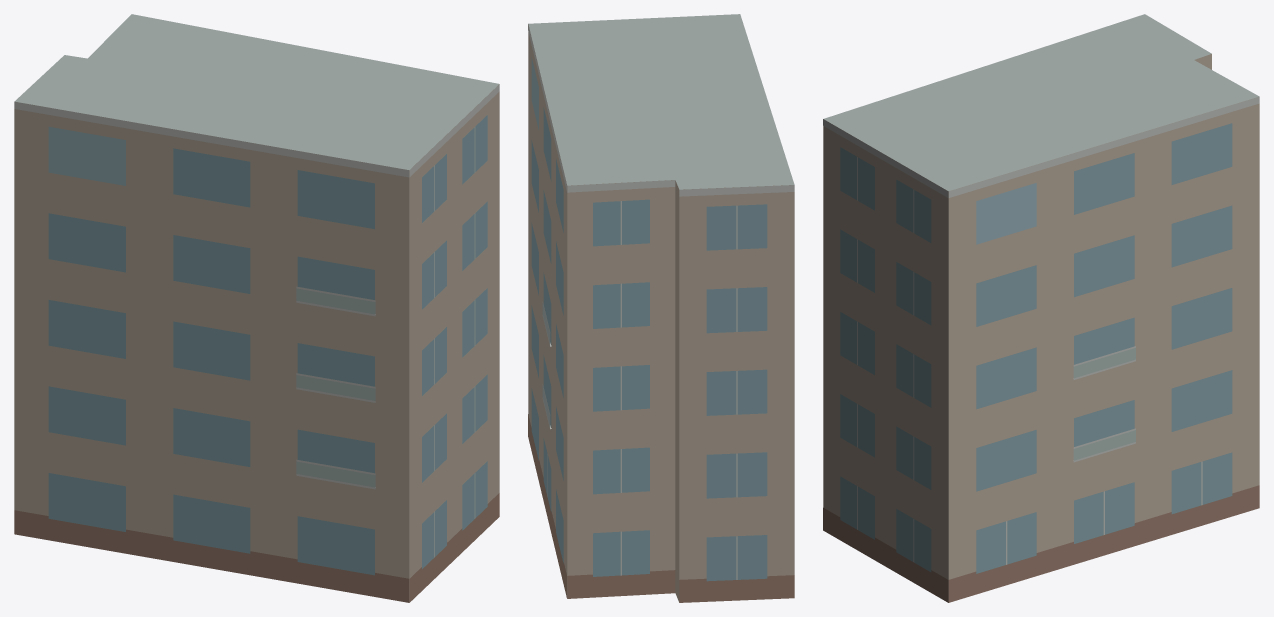
File: survey-upis-32874949.glb
3 views of the same model, side by side, from view 1: azimuth 30°, elevation 25°; view 2: azimuth 150°, elevation 25°; view 3: azimuth 270°, elevation 25° (orthographic). The views are drawn at different scales.
Visible parts, largest first — view 1: survey-upis-32874949.tmp; view 2: survey-upis-32874949.tmp; view 3: survey-upis-32874949.tmp.
Part boxes in pixels (box(x1,y1,x2,y2)): survey-upis-32874949.tmp: box(14, 14, 499, 602); survey-upis-32874949.tmp: box(528, 14, 794, 602); survey-upis-32874949.tmp: box(823, 14, 1259, 602).
Bounding box in the file's own units: 13.41 × 14.5 × 13.94.
